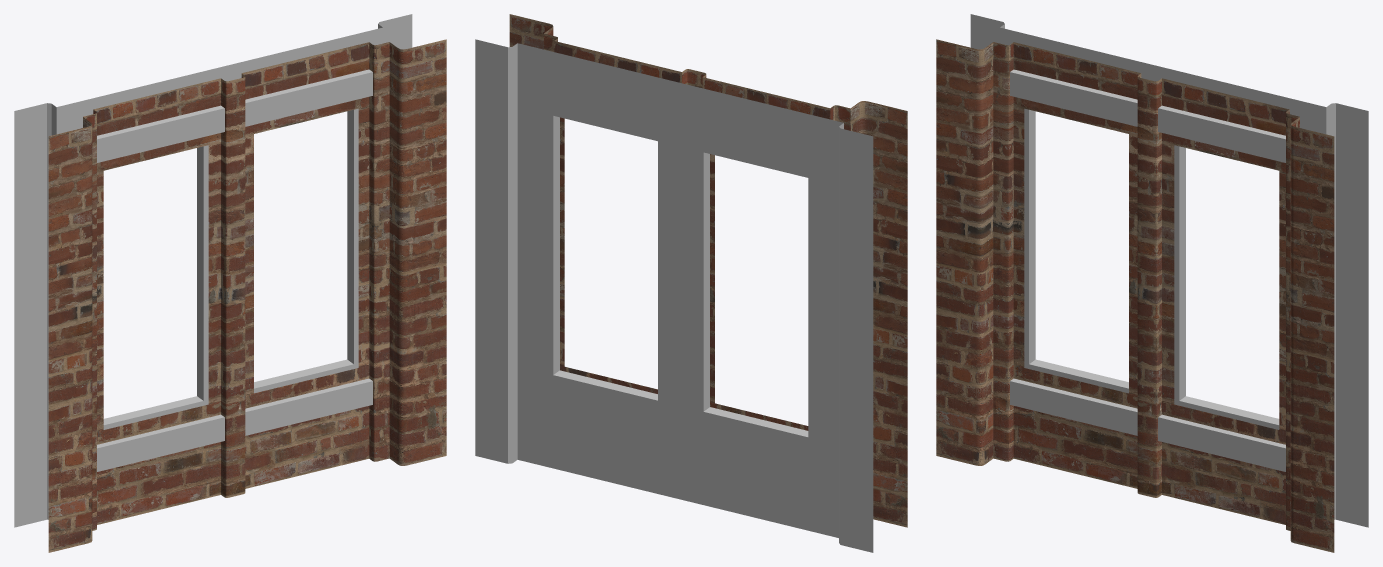
File: SM_Wall_Windows_B.fbx
3 renders of one model, left to right at view 1: azimuth 30°, elevation 25°; view 2: azimuth 150°, elevation 25°; view 3: azimuth 330°, elevation 25°, orthographic.
Visible parts, largest first — view 1: SM_Wall_Windows_B; view 2: SM_Wall_Windows_B; view 3: SM_Wall_Windows_B.
Part boxes in pixels (<box>): SM_Wall_Windows_B: <box>14,14,446,552</box>; SM_Wall_Windows_B: <box>475,14,907,552</box>; SM_Wall_Windows_B: <box>936,14,1368,552</box>.
Size of the model in its own units: 700 by 105 by 700.
